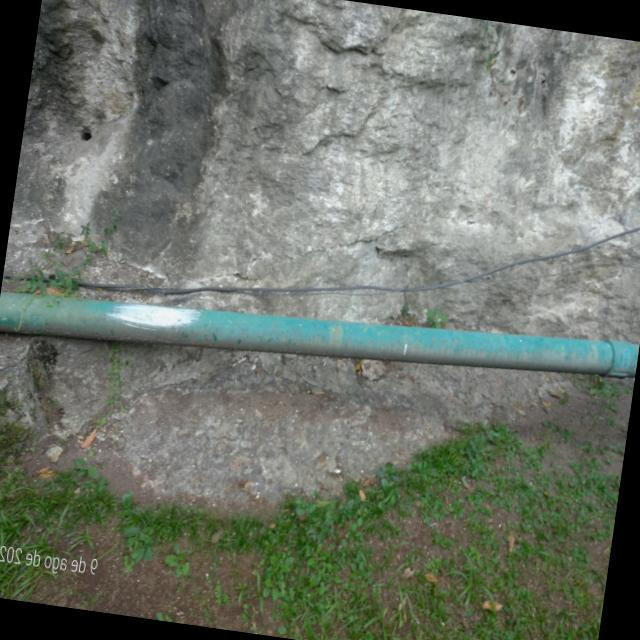gas: (19, 290, 632, 374)
